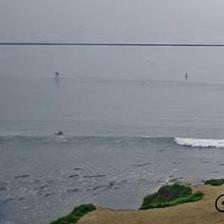surfer: (56, 131, 64, 136), (54, 71, 60, 77), (185, 72, 189, 79)
